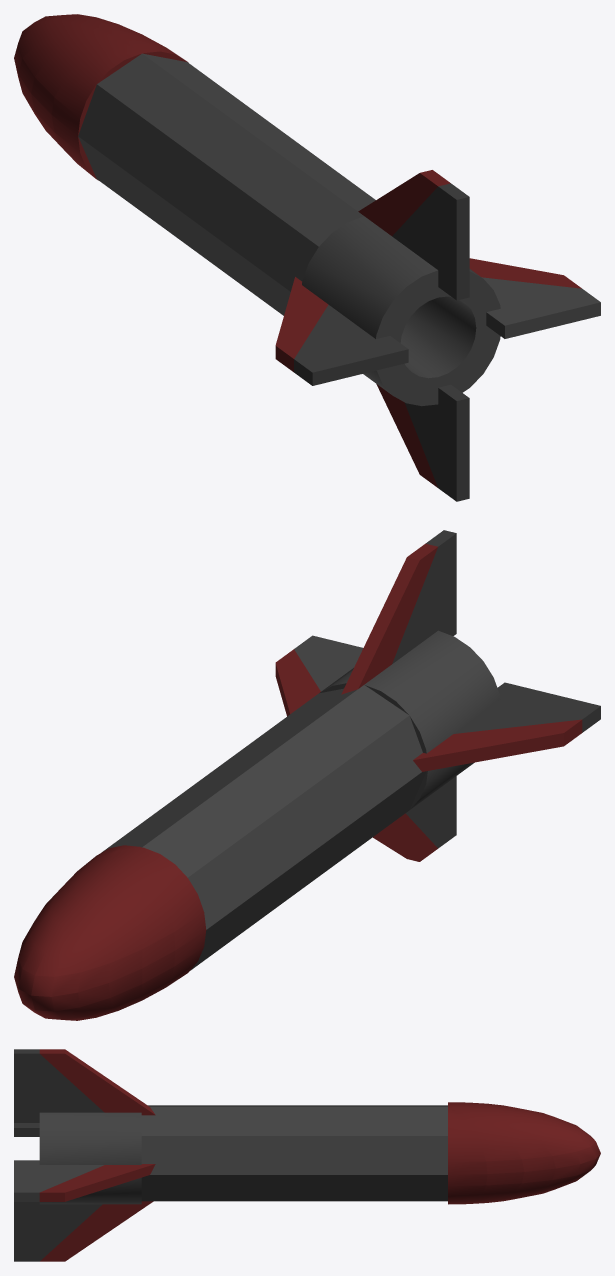
File: missile3.fbx
The picture shows the model from 3 angles, top to bottom: view 1: azimuth 30°, elevation 25°; view 2: azimuth 150°, elevation 25°; view 3: azimuth 270°, elevation 25°; orthographic projection. The views are drawn at different scales.
Parts seen in each view (by area): view 1: cylinder_vertex_17, cylinder_hollow_20, sphere_dome_19, wing_endLong_25, wing_endLong_23, wing_endLong_22, wing_endLong_24; view 2: cylinder_vertex_17, sphere_dome_19, cylinder_hollow_20, wing_endLong_25, wing_endLong_23, wing_endLong_24, wing_endLong_22; view 3: cylinder_vertex_17, sphere_dome_19, cylinder_hollow_20, wing_endLong_25, wing_endLong_22, wing_endLong_24, wing_endLong_23.
Boxes of the visible parts, x1=… form: cylinder_vertex_17: x1=78, y1=53, x2=375, y2=315; cylinder_hollow_20: x1=302, y1=216, x2=500, y2=406; sphere_dome_19: x1=14, y1=14, x2=188, y2=180; wing_endLong_25: x1=358, y1=170, x2=469, y2=300; wing_endLong_23: x1=275, y1=277, x2=408, y2=385; wing_endLong_22: x1=376, y1=384, x2=469, y2=501; wing_endLong_24: x1=469, y1=258, x2=600, y2=338; cylinder_vertex_17: x1=101, y1=685, x2=426, y2=970; sphere_dome_19: x1=14, y1=845, x2=206, y2=1020; cylinder_hollow_20: x1=319, y1=630, x2=500, y2=809; wing_endLong_25: x1=341, y1=530, x2=456, y2=694; wing_endLong_23: x1=413, y1=682, x2=600, y2=771; wing_endLong_24: x1=275, y1=635, x2=363, y2=716; wing_endLong_22: x1=373, y1=776, x2=456, y2=861; cylinder_vertex_17: x1=141, y1=1105, x2=447, y2=1201; sphere_dome_19: x1=448, y1=1102, x2=600, y2=1204; cylinder_hollow_20: x1=39, y1=1112, x2=141, y2=1204; wing_endLong_25: x1=14, y1=1049, x2=155, y2=1122; wing_endLong_22: x1=14, y1=1201, x2=153, y2=1261; wing_endLong_24: x1=14, y1=1160, x2=155, y2=1201; wing_endLong_23: x1=14, y1=1123, x2=39, y2=1136.
Size of the model in its own units: 9 by 9 by 23.
